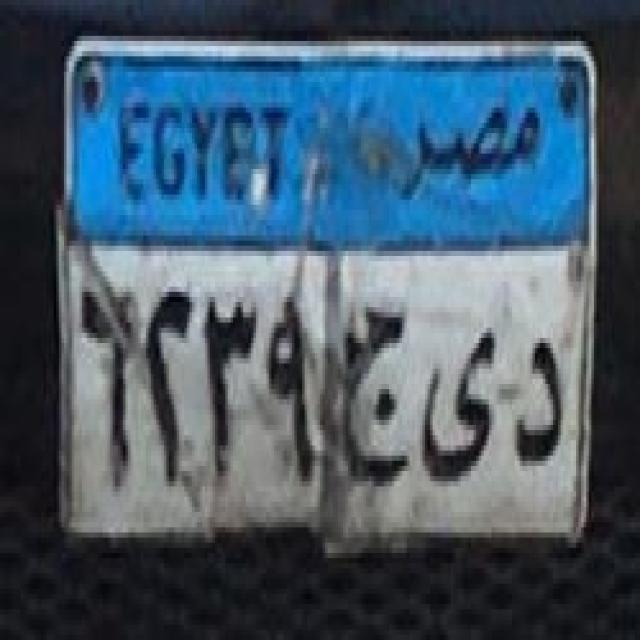2: (138, 274, 200, 492)
3: (196, 284, 260, 485)
6: (76, 273, 132, 512)
9: (261, 288, 321, 486)
Yeeh: (418, 310, 500, 490)
daal: (512, 326, 575, 480)
geem: (328, 296, 417, 496)
